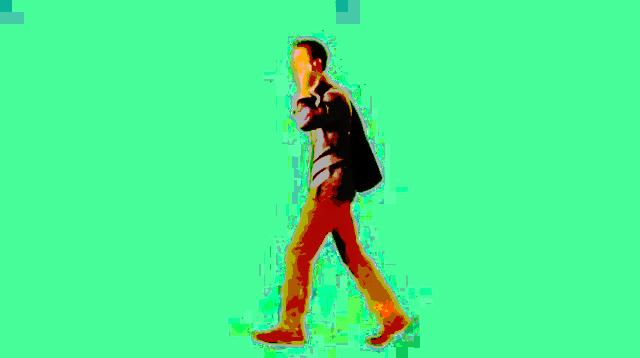berjalan: (244, 34, 413, 350)
